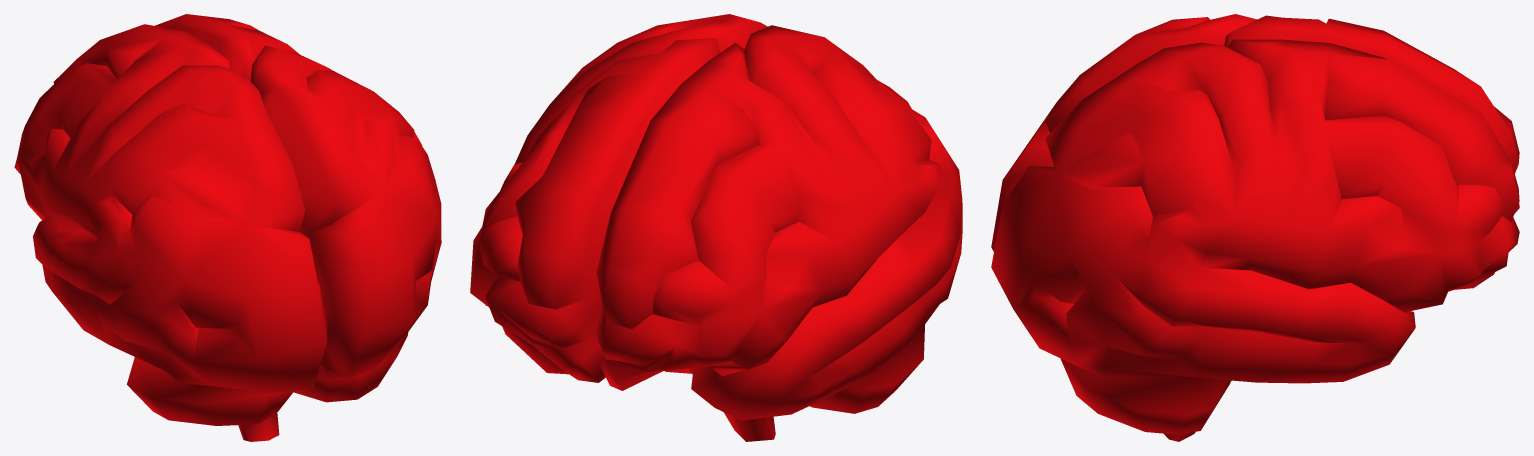
The model's file is brain.glb.
The picture shows the model from 3 angles, left to right: view 1: azimuth 30°, elevation 25°; view 2: azimuth 150°, elevation 25°; view 3: azimuth 270°, elevation 25°; orthographic projection. The views are drawn at different scales.
Visible parts, largest first — view 1: Brain; view 2: Brain; view 3: Brain.
Boxes of the visible parts, left/top/right/bottom form: Brain: left=14, top=14, right=441, bottom=441; Brain: left=470, top=14, right=962, bottom=441; Brain: left=991, top=14, right=1519, bottom=441.
Bounding box in the file's own units: 0.1361 × 0.1398 × 0.1661.
